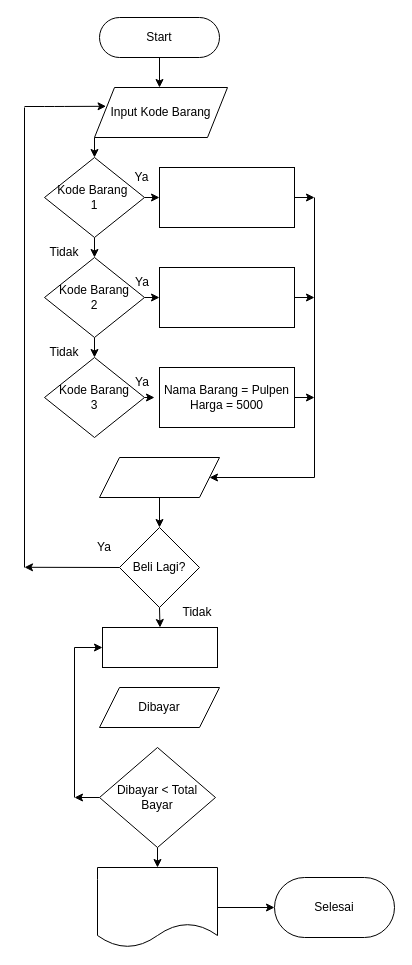
Some shapes in this 412 by 965 pixel diagram are drawn without their labels. The shapes that lost their labels are listed below. From the top down, each one's centre as x and y in pixels, then its label:
At (x=226, y=197): "Nama Barang = Buku Harga = 10.000".
At (x=226, y=297): "Nama Barang = Pensil Harga = 3000".
At (x=159, y=477): "Input Jumlah".
At (x=160, y=647): "Total Bayar".
At (x=157, y=907): "Total bayar, Dibayar, Jumlah, Kembalian".
